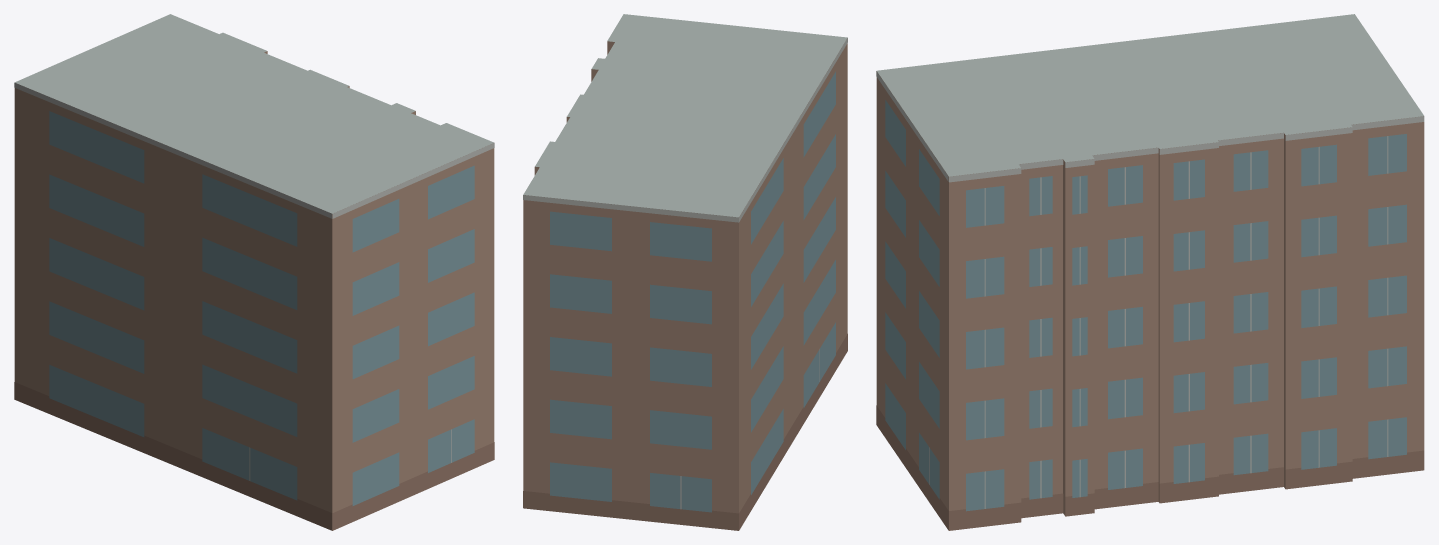
Rendered from survey-upis-32563444.glb.
The picture shows the model from 3 angles, left to right: view 1: azimuth 30°, elevation 25°; view 2: azimuth 150°, elevation 25°; view 3: azimuth 270°, elevation 25°; orthographic projection. The views are drawn at different scales.
Parts seen in each view (by area): view 1: survey-upis-32563444.tmp; view 2: survey-upis-32563444.tmp; view 3: survey-upis-32563444.tmp.
Boxes of the visible parts, left/top/right/bottom form: survey-upis-32563444.tmp: left=14, top=14, right=494, bottom=530; survey-upis-32563444.tmp: left=523, top=14, right=847, bottom=530; survey-upis-32563444.tmp: left=876, top=14, right=1424, bottom=530.
Bounding box in the file's own units: 14.58 × 14.8 × 20.76.
